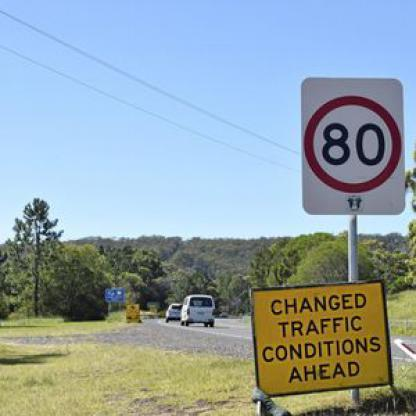Speed Limit 80: (306, 97, 402, 191)
